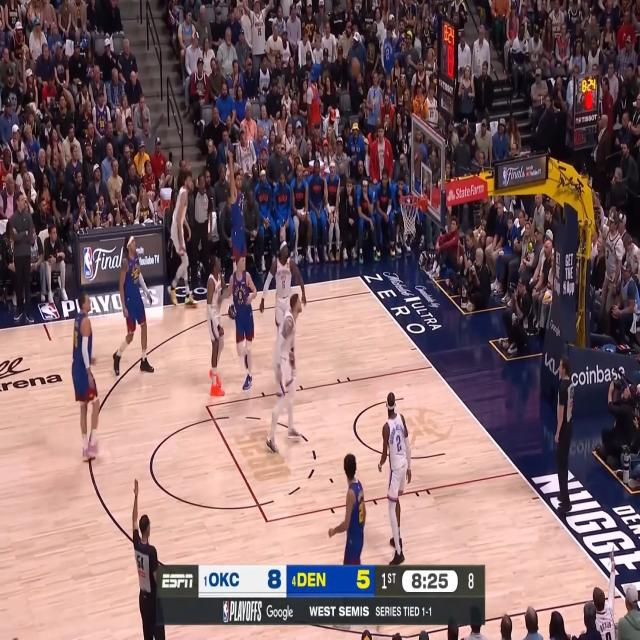ball: (348, 57, 360, 78)
number: (396, 435, 402, 452), (282, 278, 286, 290), (134, 268, 138, 278)
player: (259, 239, 306, 397), (328, 454, 366, 632), (264, 292, 303, 455), (378, 392, 414, 566), (113, 234, 154, 378), (69, 290, 101, 462), (218, 252, 258, 389), (169, 170, 198, 310), (228, 148, 248, 321), (205, 252, 228, 400)
referee: (131, 477, 166, 640), (185, 158, 214, 297), (552, 356, 575, 514)
rim: (399, 194, 420, 207)
